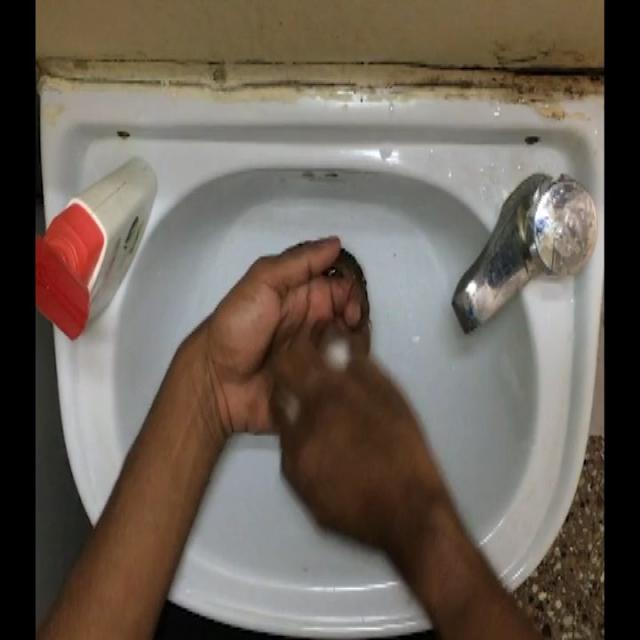step_4: (209, 234, 426, 564)
